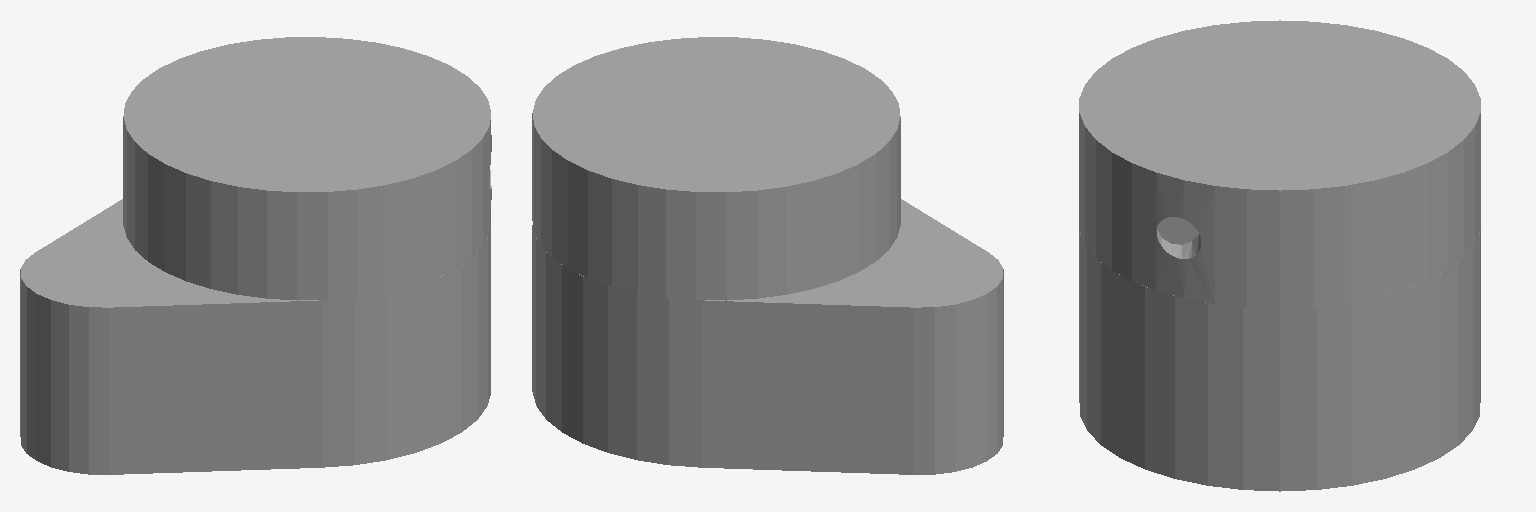
robot.urdf — yahboomcar:
<?xml version="1.0" encoding="utf-8"?>
<!-- This URDF was automatically created by SolidWorks to URDF Exporter! Originally created by [author] ([email redacted]) 
     Commit Version: 1.6.0-1-g15f4949  Build Version: 1.6.7594.29634  81.5+32.5
     For more information, please see http://wiki.ros.org/sw_urdf_exporter -->
<robot name="yahboomcar">
    <link name="base_footprint"/>
    <link name="imu_link"/>
    <link name="base_link">
        <inertial>
            <origin xyz="0.00498197982182523 5.70233829969297E-05 -0.0121008098068578" rpy="0 0 0"/>
            <mass value="0.486218814966626"/>
            <inertia
                    ixx="0.00196277727666921"
                    ixy="2.50447049446755E-07"
                    ixz="0.000140534767811098"
                    iyy="0.00457256033711368"
                    iyz="2.68618064993882E-07"
                    izz="0.00493927269870476"/>
        </inertial>
        <visual>
            <origin xyz="0 0 0" rpy="0 0 0"/>
            <geometry>
                <mesh filename="package://yahboomcar_description/meshes/x3/base_link.STL"/>
            </geometry>
            <material name="">
                <color rgba="0 0.7 0 1"/>
            </material>
        </visual>
        <collision>
            <origin xyz="0 0 0" rpy="0 0 0"/>
            <geometry>
                <mesh filename="package://yahboomcar_description/meshes/x3/base_link.STL"/>
            </geometry>
        </collision>
    </link>
    <joint name="base_joint" type="fixed">
        <parent link="base_footprint"/>
        <child link="base_link"/>
        <origin xyz="0.0 0.0 0.0815" rpy="0 0 0"/>
    </joint>
    <joint name="base_imu" type="fixed">
        <parent link="base_link"/>
        <child link="imu_link"/>
        <origin xyz="-0.06 0.01 0.01" rpy="0 3.1415 1.5707"/>
    </joint>
    <link name="front_right_wheel">
        <inertial>
            <origin xyz="1.9051E-06 -2.3183E-07 -0.00064079" rpy="0 0 0"/>
            <mass value="0.051532"/>
            <inertia ixx="1.4595E-05" ixy="-4.3975E-10" ixz="4.415E-10"
                     iyy="1.4594E-05" iyz="-1.7476E-09" izz="2.4264E-05"/>
        </inertial>
        <visual>
            <origin xyz="0 0 0" rpy="0 0 0"/>
            <geometry>
                <mesh filename="package://yahboomcar_description/meshes/x3/front_right_wheel.STL"/>
            </geometry>
            <material name="">
                <color rgba="0.7 0.7 0.7 1"/>
            </material>
        </visual>
        <collision>
            <origin xyz="0 0 0" rpy="0 0 0"/>
            <geometry>
                <mesh filename="package://yahboomcar_description/meshes/x3/front_right_wheel.STL"/>
            </geometry>
        </collision>
    </link>
    <joint name="front_right_joint" type="continuous">
        <origin xyz="0.08 -0.0845 -0.0389" rpy="-1.5703 0 3.14159"/>
        <parent link="base_link"/>
        <child link="front_right_wheel"/>
        <axis xyz="0 0 1" rpy="0 0 0"/>
        <limit effort="100" velocity="1"/>
    </joint>
    <link name="front_left_wheel">
        <inertial>
            <origin xyz="2.3728E-06 -9.4228E-07 0.00064068" rpy="0 0 0"/>
            <mass value="0.051543"/>
            <inertia ixx="1.4597E-05" ixy="-4.7945E-10" ixz="-2.4786E-10"
                     iyy="1.4598E-05" iyz="1.7972E-09" izz="2.4267E-05"/>
        </inertial>
        <visual>
            <origin xyz="0 0 0" rpy="0 0 0"/>
            <geometry>
                <mesh filename="package://yahboomcar_description/meshes/x3/front_left_wheel.STL"/>
            </geometry>
            <material name="">
                <color rgba="0.7 0.7 0.7 1"/>
            </material>
        </visual>
        <collision>
            <origin xyz="0 0 0" rpy="0 0 0"/>
            <geometry>
                <mesh filename="package://yahboomcar_description/meshes/x3/front_left_wheel.STL"/>
            </geometry>
        </collision>
    </link>
    <joint name="front_left_joint" type="continuous">
        <origin xyz="0.08 0.084492 -0.0389" rpy="1.5703 0 0"/>
        <parent link="base_link"/>
        <child link="front_left_wheel"/>
        <axis xyz="0 0 1" rpy="0 0 0"/>
        <limit effort="100" velocity="1"/>
    </joint>
    <link name="back_right_wheel">
        <inertial>
            <origin xyz="-1.75924169923403E-06 1.28388821071107E-06 -0.000590549296238266" rpy="0 0 0"/>
            <mass value="0.051540174053366"/>
            <inertia ixx="1.45974152250002E-05" ixy="1.94850559178397E-10" ixz="-1.61846387282284E-09"
                     iyy="1.4596501955693E-05" iyz="-6.27904057423818E-10" izz="2.42663091380451E-05"/>
        </inertial>
        <visual>
            <origin xyz="0 0 0" rpy="0 0 0"/>
            <geometry>
                <mesh filename="package://yahboomcar_description/meshes/x3/back_right_wheel.STL"/>
            </geometry>
            <material name="">
                <color rgba="0.7 0.7 0.7 1"/>
            </material>
        </visual>
        <collision>
            <origin xyz="0 0 0" rpy="0 0 0"/>
            <geometry>
                <mesh filename="package://yahboomcar_description/meshes/x3/back_right_wheel.STL"/>
            </geometry>
        </collision>
    </link>
    <joint name="back_right_joint" type="continuous">
        <origin xyz="-0.08 -0.0845 -0.03946" rpy="-1.57 0 3.14159"/>
        <parent link="base_link"/>
        <child link="back_right_wheel"/>
        <axis xyz="0 0 1" rpy="0 0 0"/>
        <limit effort="100" velocity="1"/>
    </joint>
    <link name="back_left_wheel">
        <inertial>
            <origin xyz="-4.01213085227115E-07 2.04910264598596E-06 0.000590775697051377" rpy="0 0 0"/>
            <mass value="0.0515309299357028"/>
            <inertia ixx="1.45942986129926E-05" ixy="-3.19787215398093E-10" ixz="1.74943062058915E-09"
                     iyy="1.45948727598913E-05" iyz="1.61769812110049E-10" izz="2.4263683888153E-05"/>
        </inertial>
        <visual>
            <origin xyz="0 0 0" rpy="0 0 0"/>
            <geometry>
                <mesh filename="package://yahboomcar_description/meshes/x3/back_left_wheel.STL"/>
            </geometry>
            <material name="">
                <color rgba="0.7 0.7 0.7 1"/>
            </material>
        </visual>
        <collision>
            <origin xyz="0 0 0" rpy="0 0 0"/>
            <geometry>
                <mesh filename="package://yahboomcar_description/meshes/x3/back_left_wheel.STL"/>
            </geometry>
        </collision>
    </link>
    <joint name="back_left_joint" type="continuous">
        <origin xyz="-0.08 0.084492 -0.03954" rpy="1.5703 0 0"/>
        <parent link="base_link"/>
        <child link="back_left_wheel"/>
        <axis xyz="0 0 1" rpy="0 0 0"/>
        <limit effort="100" velocity="1"/>
    </joint>
    <link name="laser_link">
        <inertial>
            <origin xyz="-0.0176558922685589 0.000671805271544437 0.0219302095894866" rpy="0 0 0" />
            <mass value="0.0483909504209895" />
            <inertia ixx="1.58456966399128E-05" ixy="-4.23913983850005E-07" ixz="-2.09597897904374E-07"
                     iyy="3.89262522903605E-05" iyz="3.24809725932687E-07" izz="4.86230801106223E-05" />
        </inertial>
        <visual>
            <origin xyz="0 0 0" rpy="0 0 0"/>
            <geometry>
                <mesh filename="package://yahboomcar_description/meshes/sensor/collision/laser_link.STL"/>
            </geometry>
            <material name="">
                <color rgba="0.7 0.7 0.7 1"/>
            </material>
        </visual>
        <collision>
            <origin xyz="0 0 0" rpy="0 0 0"/>
            <geometry>
                <mesh filename="package://yahboomcar_description/meshes/sensor/collision/laser_link.STL"/>
            </geometry>
        </collision>
    </link>
    <joint name="laser_joint" type="fixed">
        <origin xyz="0.0435 5.25826986680105E-05 0.11" rpy="0 0 0"/>
        <parent link="base_link"/>
        <child link="laser_link"/>
    </joint>
    <link name="camera_link">
        <inertial>
            <origin xyz="0 0 0" rpy="0 0 0"/>
            <mass value="0"/>
            <inertia ixx="0" ixy="0" ixz="0" iyy="0" iyz="0" izz="0"/>
        </inertial>
        <visual>
            <origin xyz="0 0 0" rpy="0 0 0"/>
            <geometry>
                <mesh filename="package://yahboomcar_description/meshes/sensor/collision/camera_link.STL"/>
            </geometry>
            <material name="">
                <color rgba="0.7 0.7 0.7 1"/>
            </material>
        </visual>
        <collision>
            <origin xyz="0 0 0" rpy="0 0 0"/>
            <geometry>
                <mesh filename="package://yahboomcar_description/meshes/sensor/collision/camera_link.STL"/>
            </geometry>
        </collision>
    </link>
    <joint name="camera_joint" type="fixed">
        <origin xyz="0.057105 1.7948E-05 0.03755" rpy="0 0 0"/>
        <parent link="base_link"/>
        <child link="camera_link"/>
    </joint>
</robot>

--- Facts derived from the render (not from the file) ---
3 views of the same robot in one strip: view 1: azimuth 30°, elevation 25°; view 2: azimuth 150°, elevation 25°; view 3: azimuth 270°, elevation 25° (orthographic).
Robot: yahboomcar — 9 links, 8 joints (4 continuous, 4 fixed); root link base_footprint; default pose: every joint at zero.
Visible links, largest first — view 1: laser_link; view 2: laser_link; view 3: laser_link.
Boxes of the visible links, x1=… form: laser_link: x1=20, y1=37, x2=491, y2=474; laser_link: x1=532, y1=37, x2=1003, y2=474; laser_link: x1=1079, y1=20, x2=1480, y2=491.
Bounding box of the posed robot: 0.0969 × 0.0708 × 0.0586 m (x, y, z).
Meshes: 7 distinct files referenced, 1 mesh visuals loaded (1 binary STL); not drawn: 6 (reference not matched to a file when rendering).